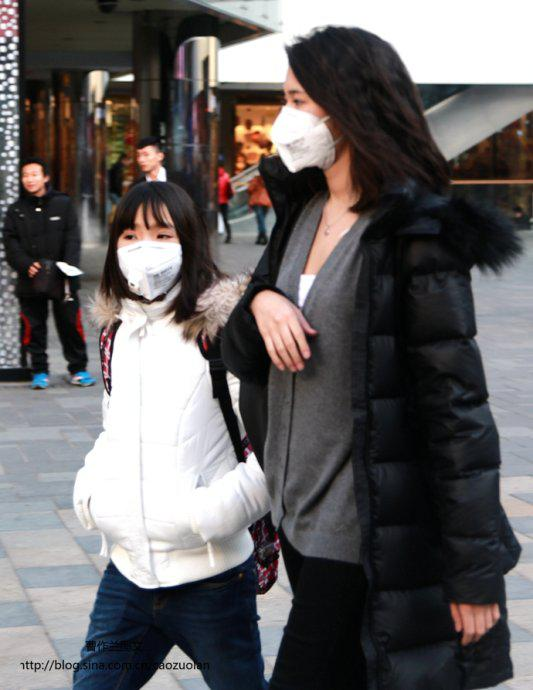NONE: (22, 170, 42, 193), (137, 149, 157, 171)
OK: (271, 85, 360, 174), (111, 221, 189, 299)
